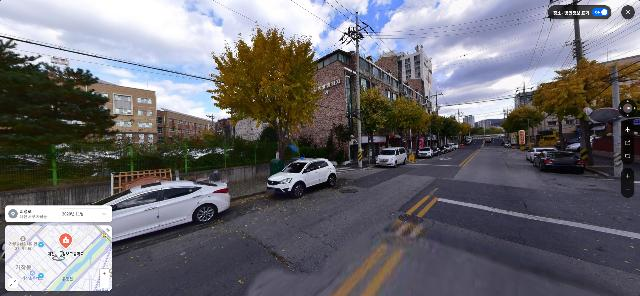ginkgo: (209, 23, 323, 159), (556, 57, 640, 166), (531, 72, 586, 151), (348, 88, 394, 165), (391, 97, 427, 152), (416, 103, 436, 147)
other: (0, 38, 123, 169), (504, 105, 541, 145), (428, 113, 448, 147), (445, 116, 460, 143)
